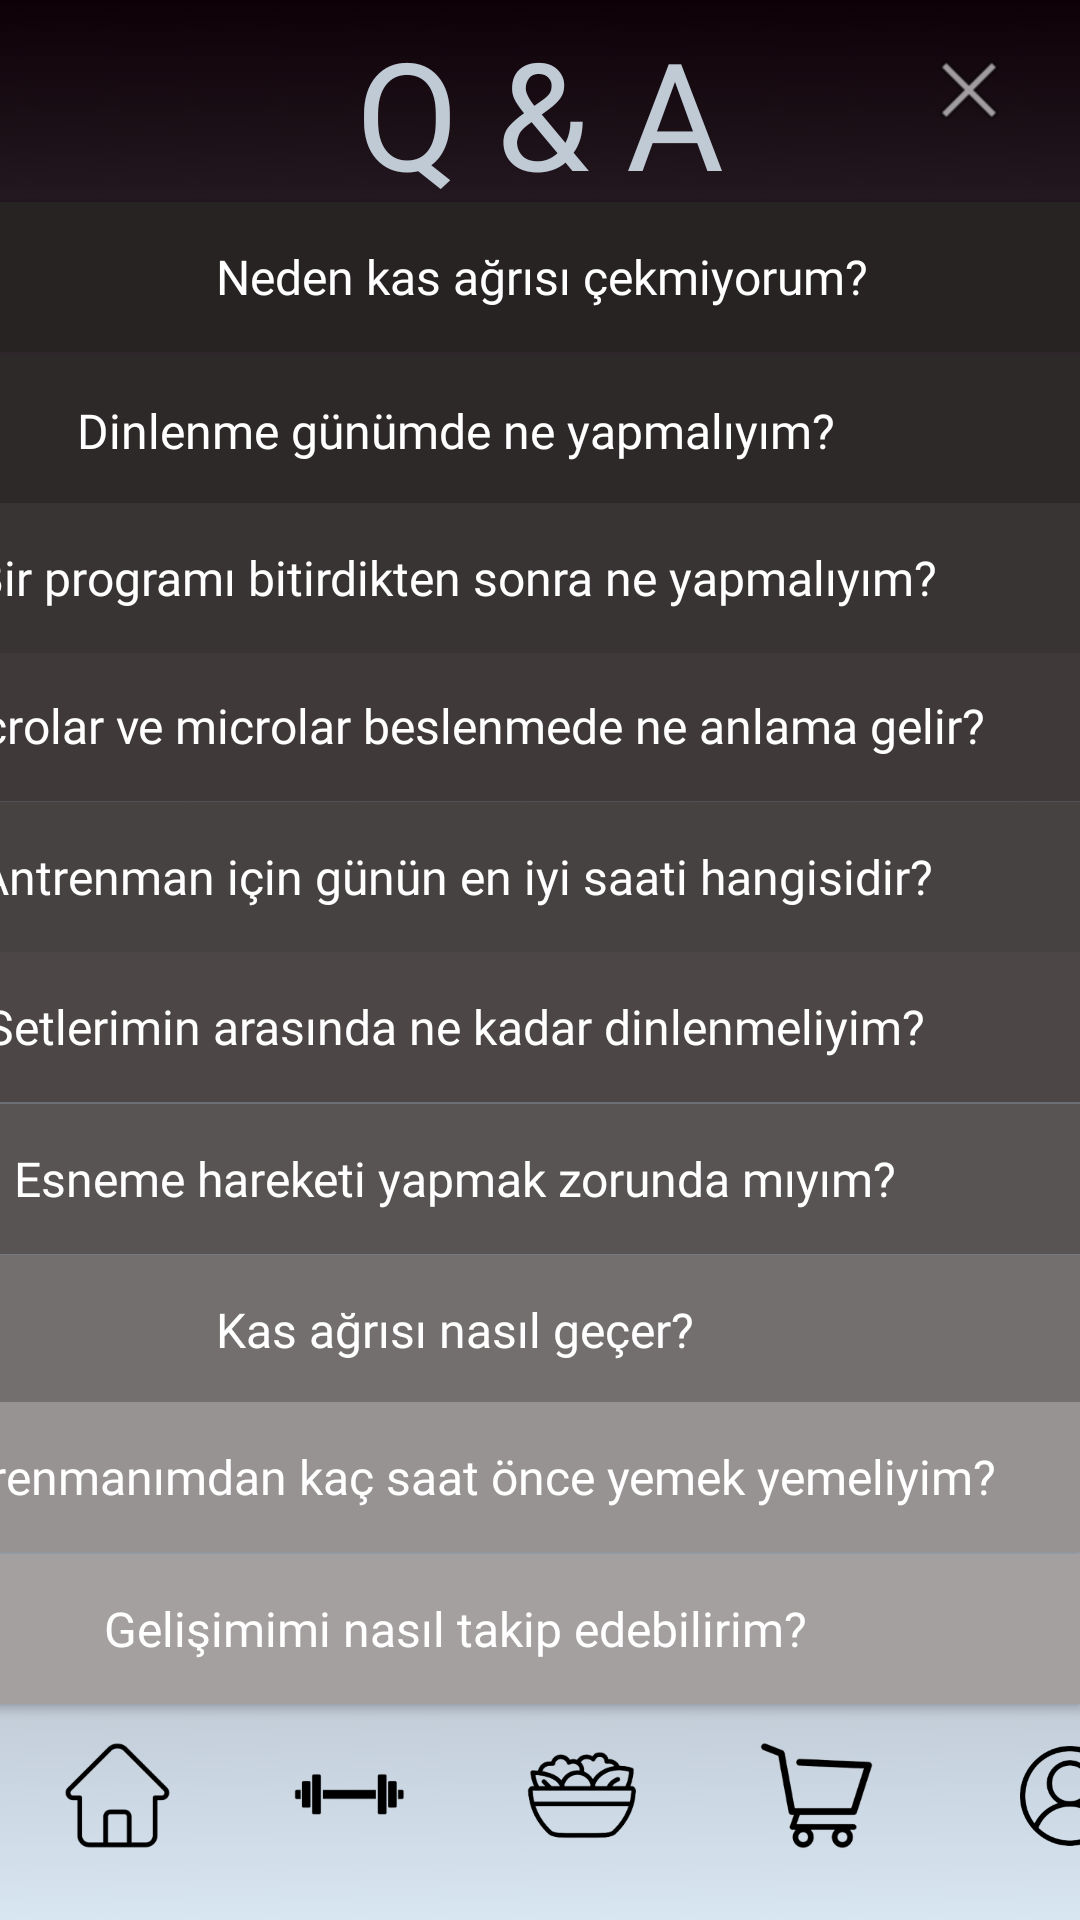

Icon click points for this 1080px×1920px phone screenshot, format [x,y]:
food: [582,1795]
gym: [349,1795]
home: [117,1795]
shop: [816,1795]
